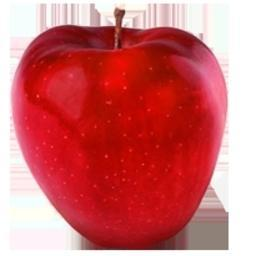apple: (10, 19, 227, 249)
